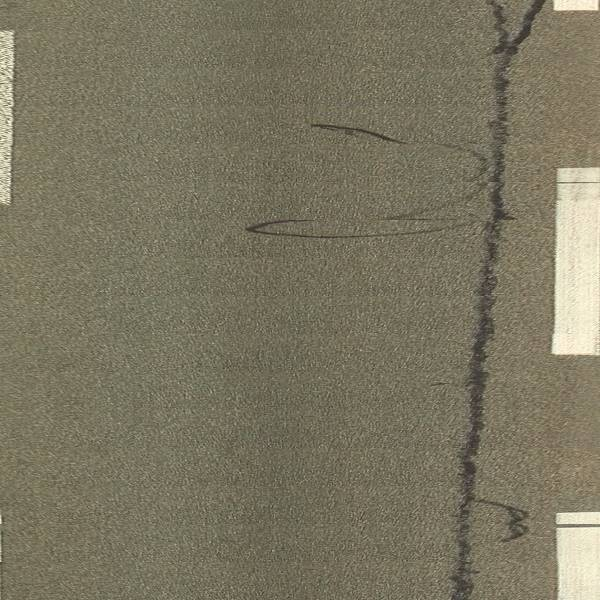road_damage: (455, 11, 539, 600), (245, 206, 483, 242)
